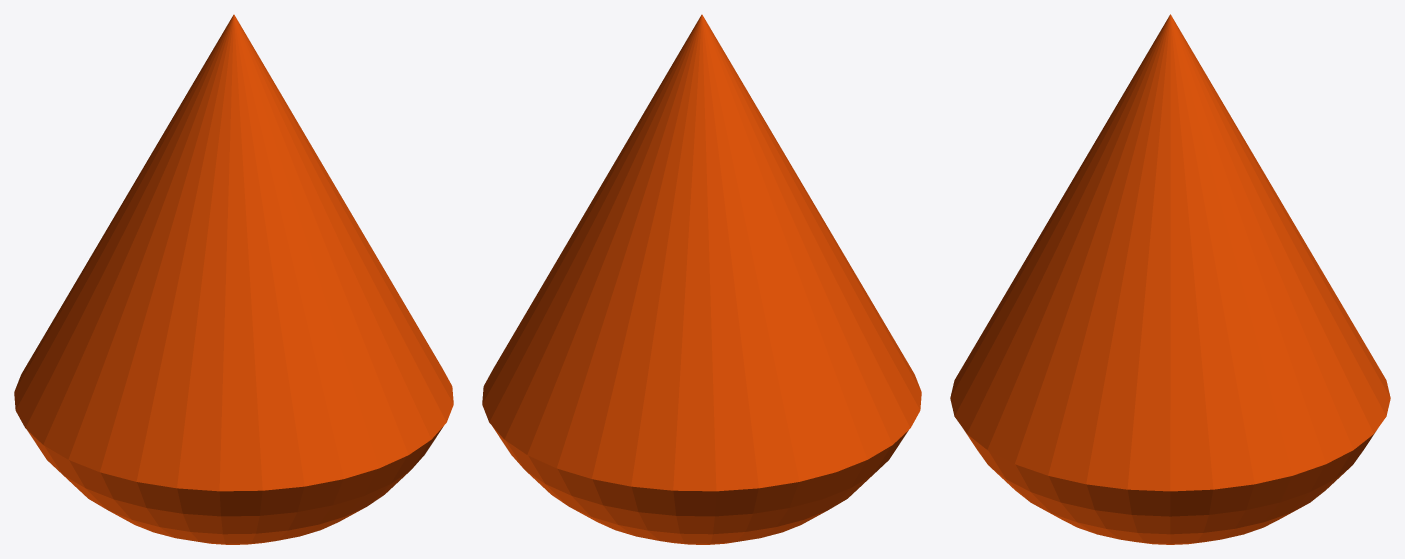
File: flame2.fbx
3 views of the same model, side by side, from view 1: azimuth 30°, elevation 25°; view 2: azimuth 150°, elevation 25°; view 3: azimuth 270°, elevation 25° (orthographic).
Parts seen in each view (by area): view 1: Cone; view 2: Cone; view 3: Cone.
Part boxes in pixels (x1,y1,x2,y2): Cone: [14, 14, 453, 544]; Cone: [482, 14, 921, 544]; Cone: [950, 14, 1390, 544].
Bounding box in the file's own units: 200 × 254 × 200.
